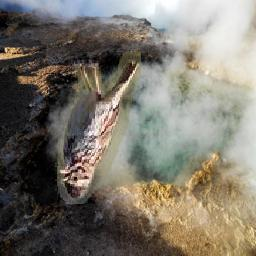Sparrow: (55, 52, 141, 205)
